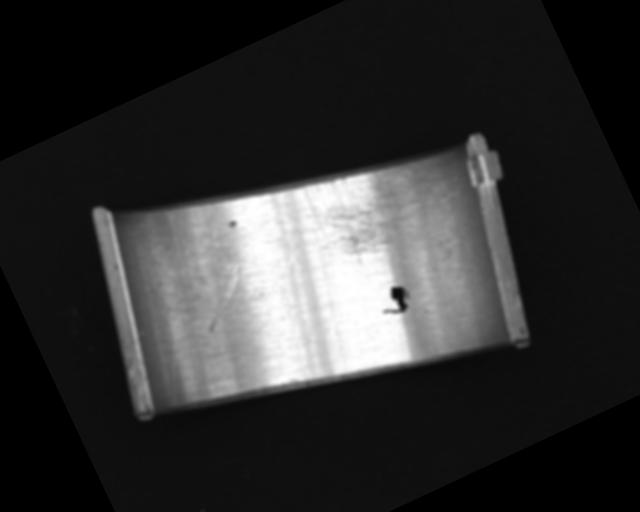blot: (374, 281, 415, 320)
bruise: (224, 218, 238, 232)
nick: (252, 251, 346, 384), (134, 304, 218, 410), (189, 264, 260, 333), (203, 216, 239, 275)
scratch: (289, 138, 446, 278)
